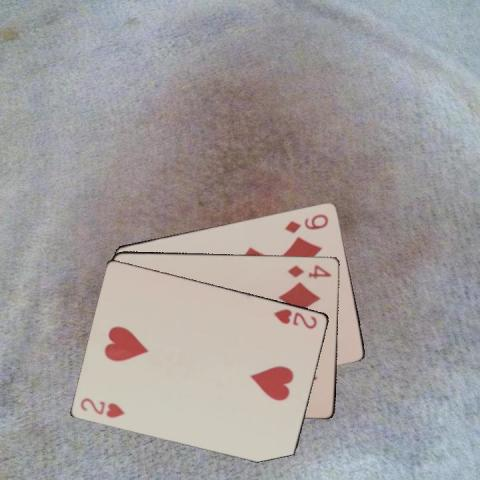2h: (271, 305, 319, 330), (77, 395, 127, 419)
4d: (284, 261, 332, 280)
9d: (282, 210, 330, 235)
